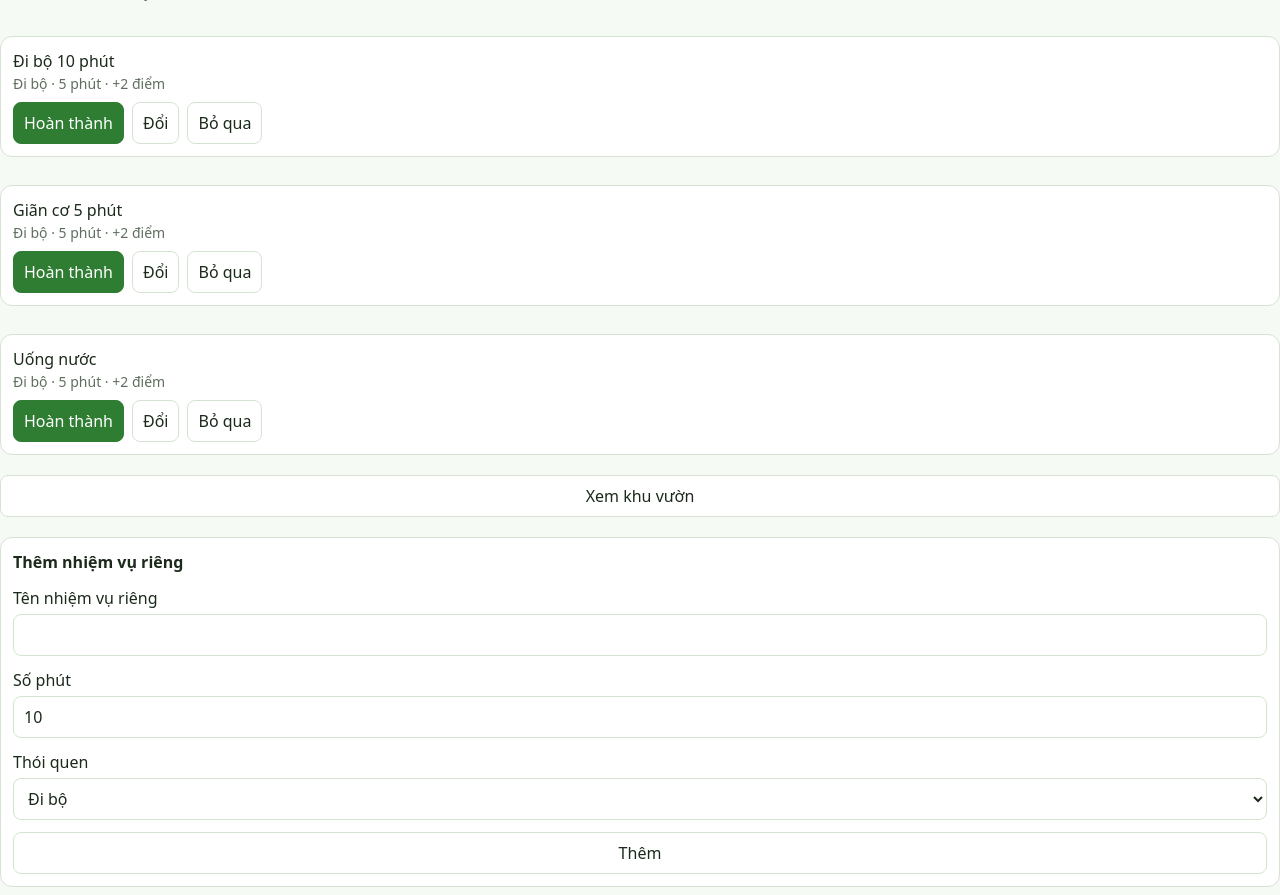
Today › adds a custom task
The width and height of the screenshot is (1280, 895).
(page scrolled)
Type "Dắt chó đi dạo" into the field labelled "Tên nhiệm vụ riêng" at (640, 635), box [13,614,1267,656]
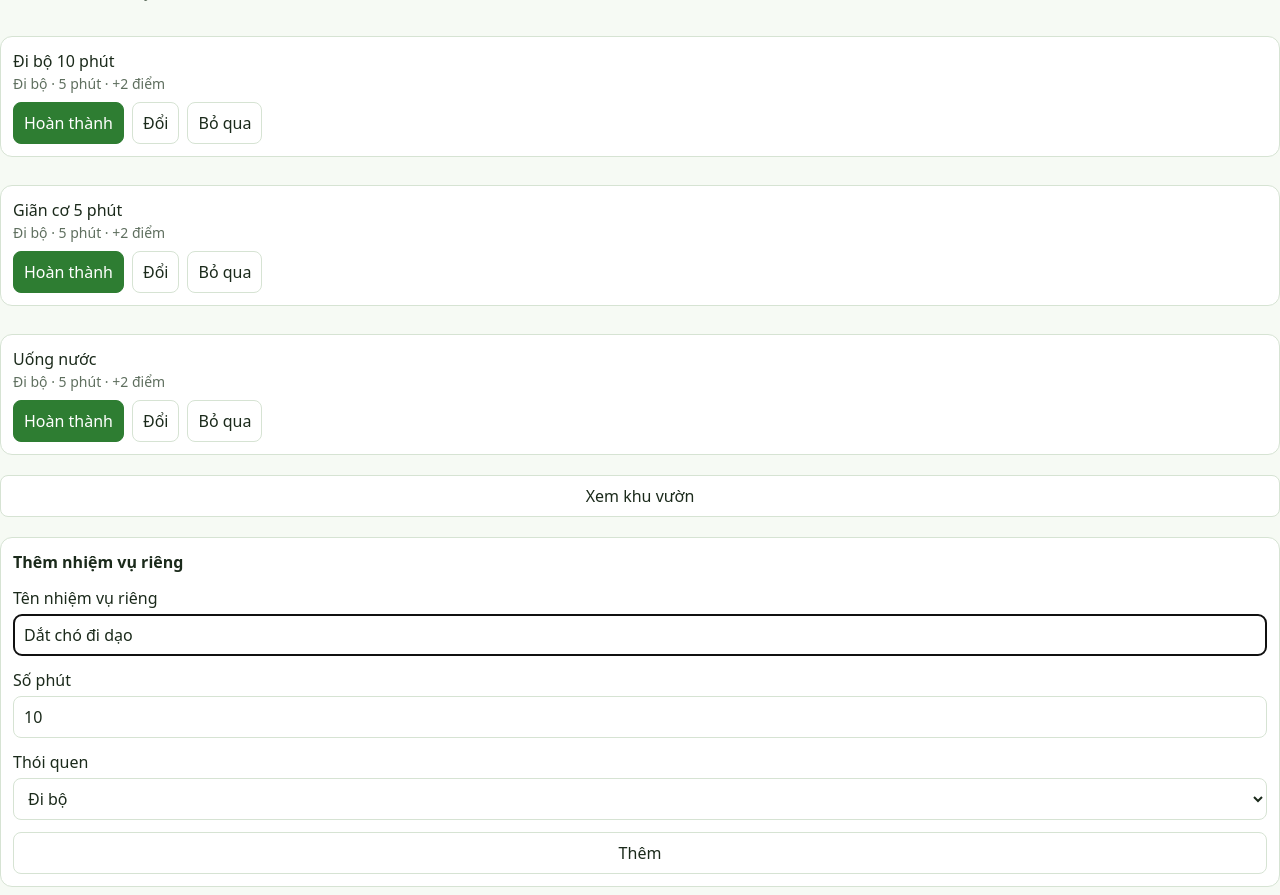
Replace the text in the number field labelled "Số phút" with "15" at (640, 717), box [13,696,1267,738]
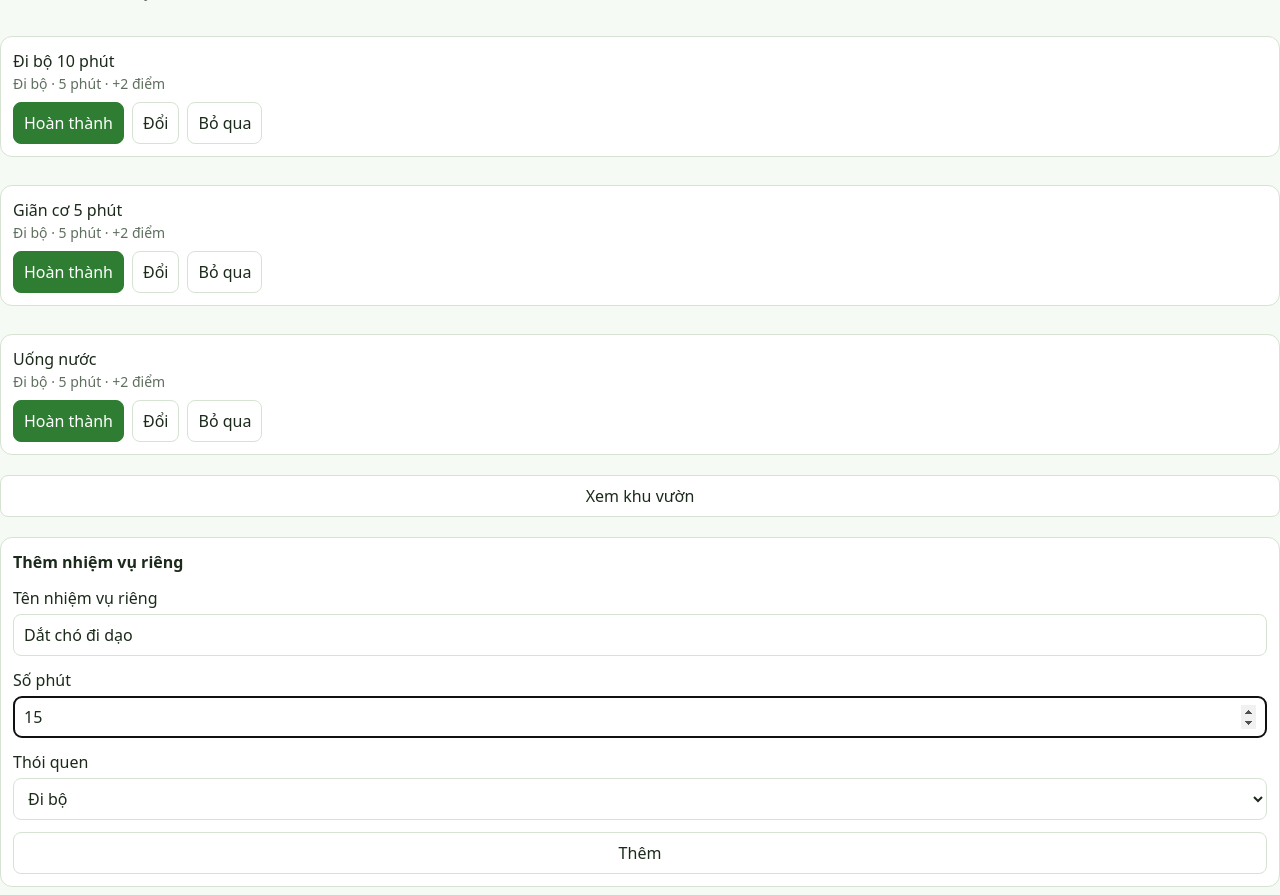
Click the button "Thêm" at (640, 853), box [13,832,1267,874]
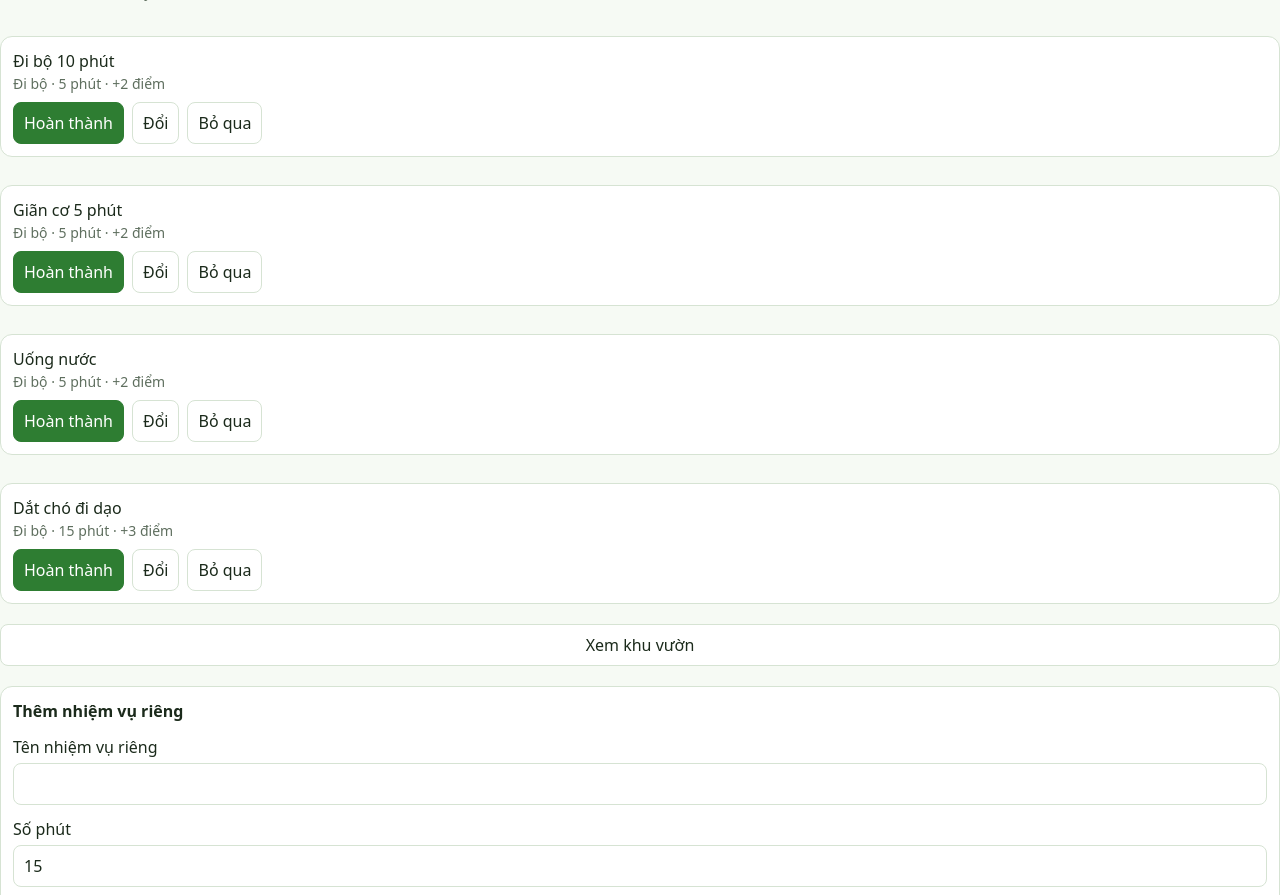
Now the text "Dắt chó đi dạo" is shown, box [13,497,122,519]
